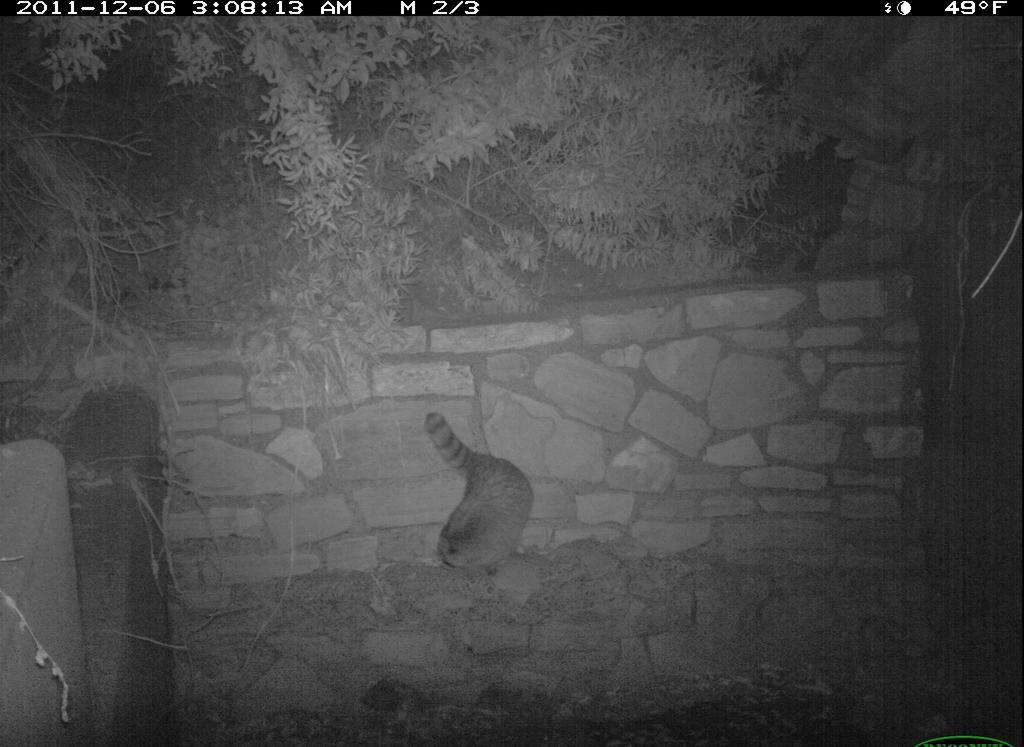raccoon: (411, 410, 545, 602)
